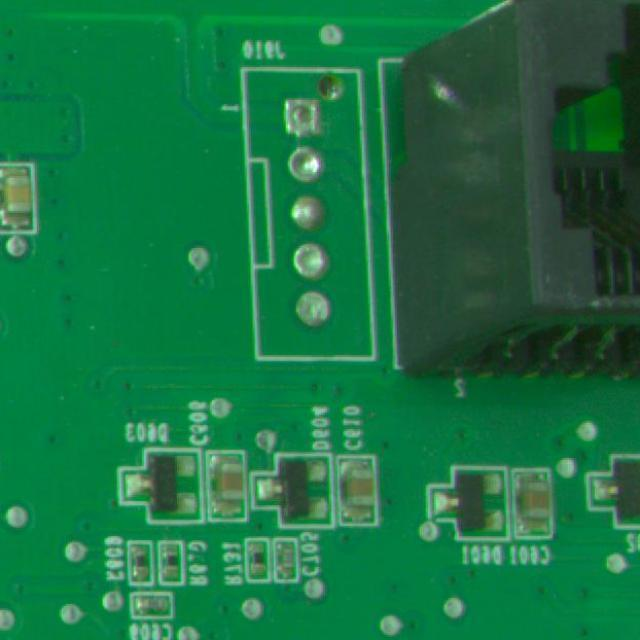Insufficient solder: (281, 100, 320, 143), (288, 148, 322, 183)
